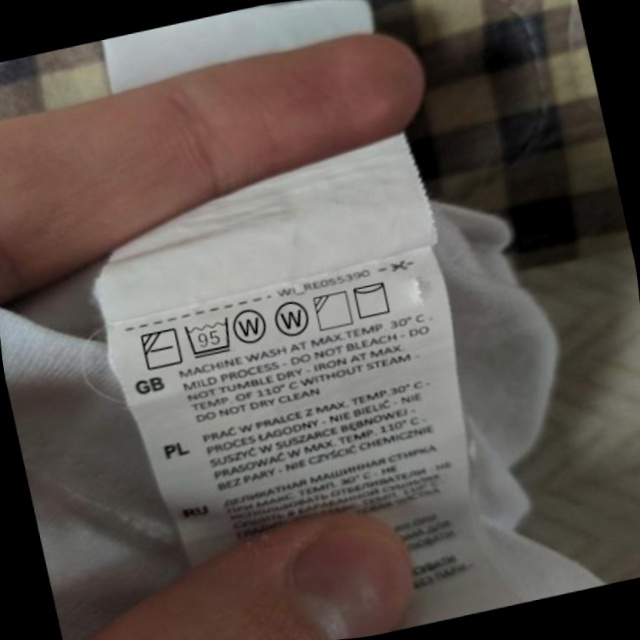95C: (179, 311, 239, 363)
dry_flat_in_shade: (135, 322, 187, 376)
line_dry: (347, 275, 397, 324)
shade_dry: (308, 285, 358, 336)
wet_clean: (268, 295, 316, 344), (227, 300, 274, 350)
